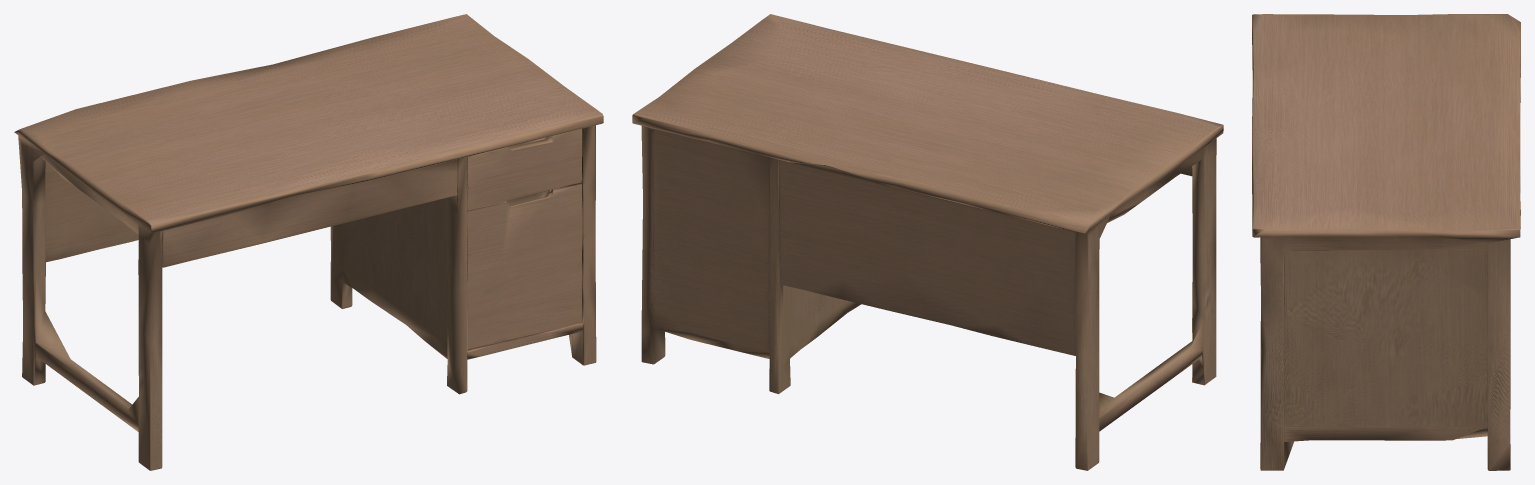
Rendered from ENV_DESK_v001_RAW.glb.
3 views of the same model, side by side, from view 1: azimuth 30°, elevation 25°; view 2: azimuth 150°, elevation 25°; view 3: azimuth 270°, elevation 25° (orthographic). The views are drawn at different scales.
Visible parts, largest first — view 1: tripo_node_e615e826-db6d-4edb-9094-b306328d1c20; view 2: tripo_node_e615e826-db6d-4edb-9094-b306328d1c20; view 3: tripo_node_e615e826-db6d-4edb-9094-b306328d1c20.
Boxes of the visible parts, bbox=[...] form: tripo_node_e615e826-db6d-4edb-9094-b306328d1c20: bbox=[14, 14, 603, 470]; tripo_node_e615e826-db6d-4edb-9094-b306328d1c20: bbox=[632, 14, 1223, 470]; tripo_node_e615e826-db6d-4edb-9094-b306328d1c20: bbox=[1252, 14, 1520, 470].
Size of the model in its own units: 0.9801 by 0.5205 by 0.5168.
Materials: 1 (1 with a texture image).
